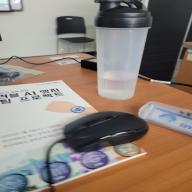mouse: (63, 110, 150, 153)
